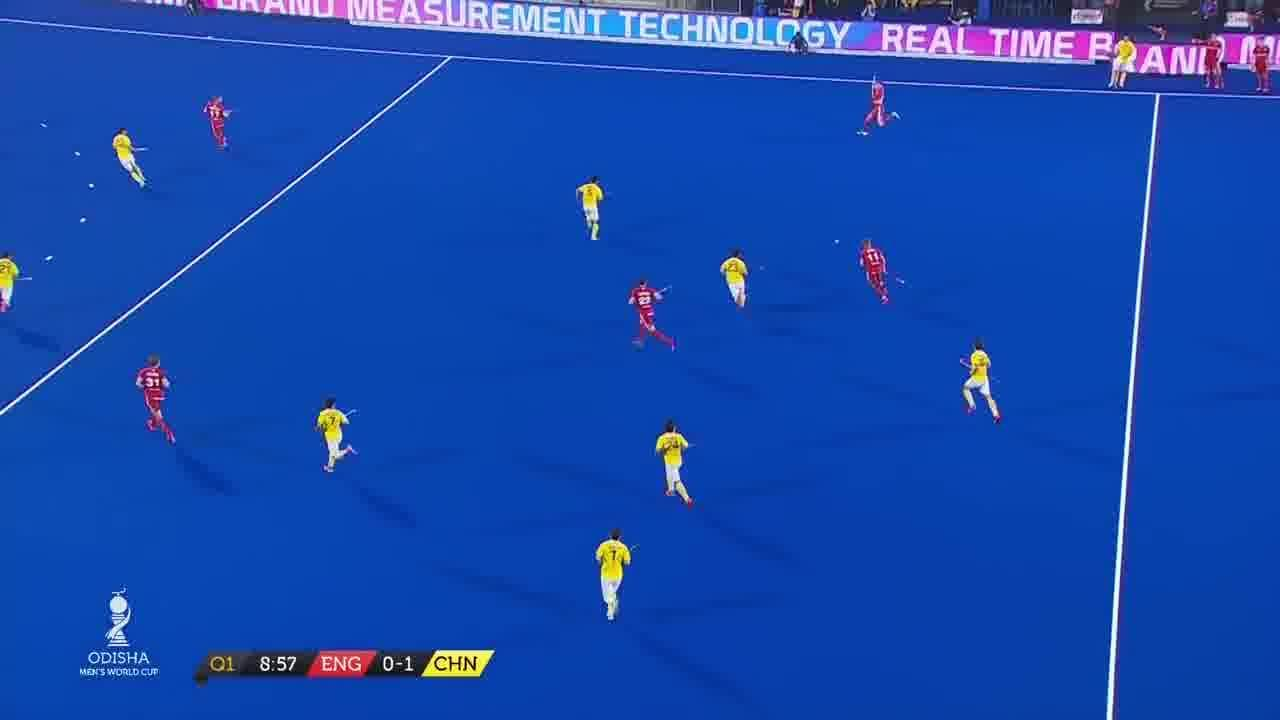ball: (825, 232, 847, 253)
